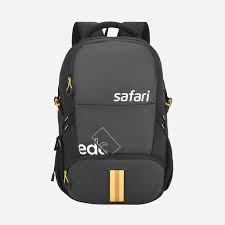backpack: (50, 20, 173, 204)
